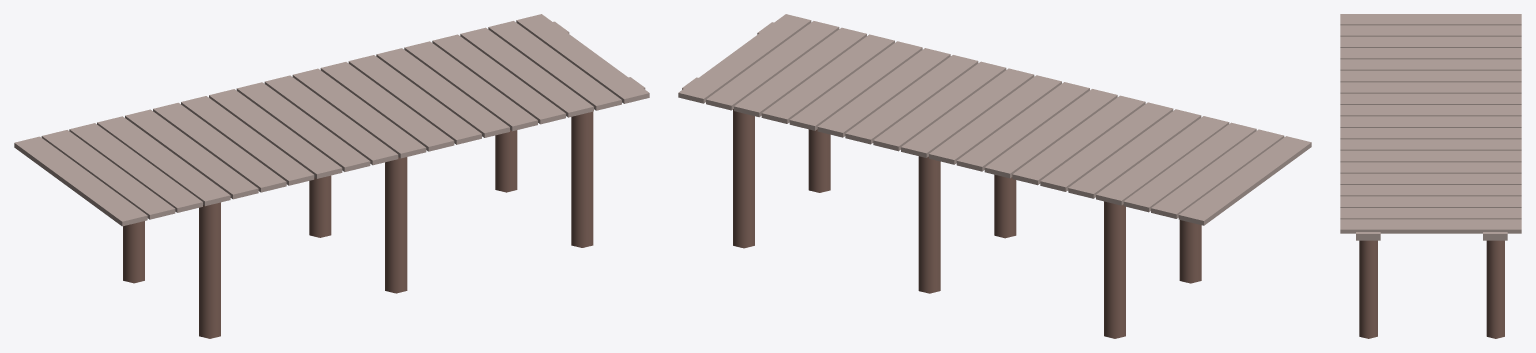
Rendered from bridge_001.glb.
3 views of the same model, side by side, from view 1: azimuth 30°, elevation 25°; view 2: azimuth 150°, elevation 25°; view 3: azimuth 270°, elevation 25° (orthographic). The views are drawn at different scales.
Parts seen in each view (by area): view 1: bridge_001; view 2: bridge_001; view 3: bridge_001.
Boxes of the visible parts, x1,y1,x2,y2 form: bridge_001: (14, 14, 649, 338); bridge_001: (678, 14, 1311, 338); bridge_001: (1340, 14, 1521, 338).
Size of the model in its own units: 7.79 by 2.09 by 2.74.
Materials: 1 (1 with a texture image).
